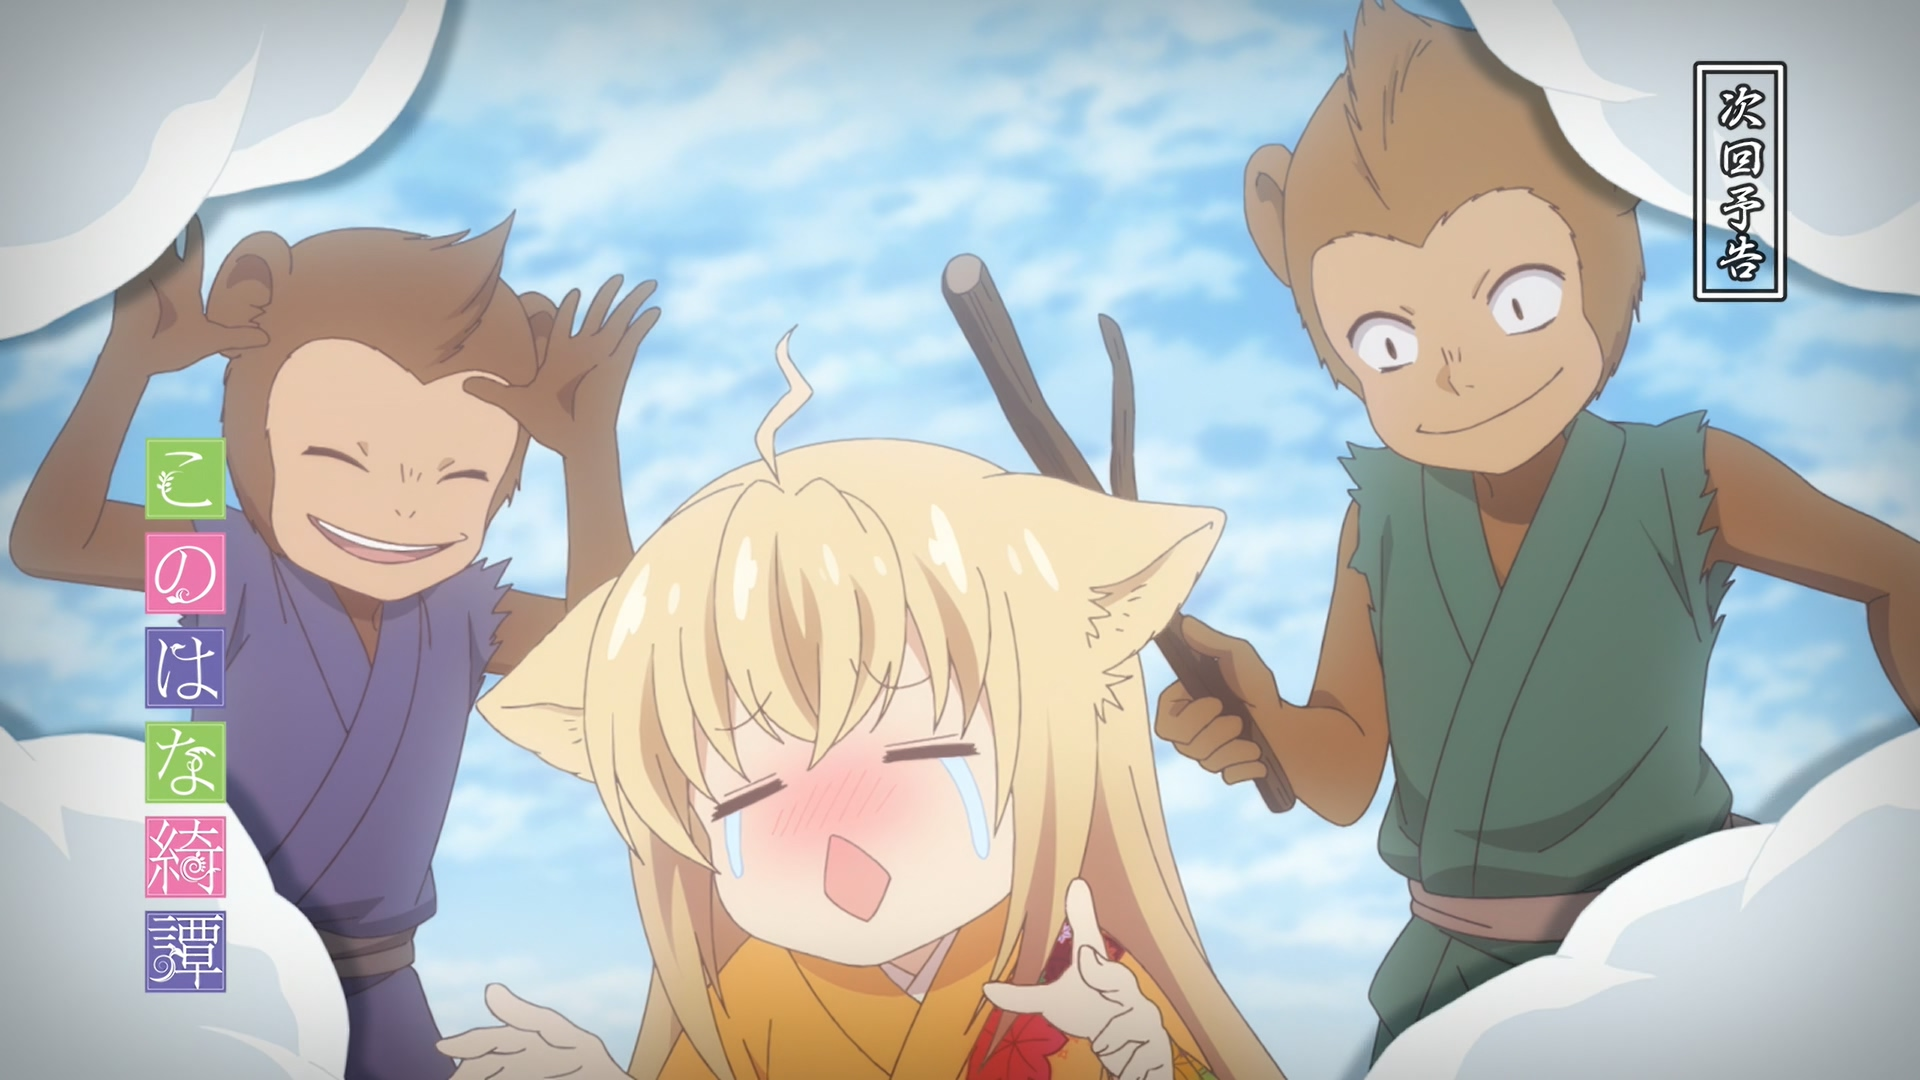其他: (1153, 1, 1920, 1080), (11, 208, 659, 1080)
柚: (435, 323, 1290, 1080)
